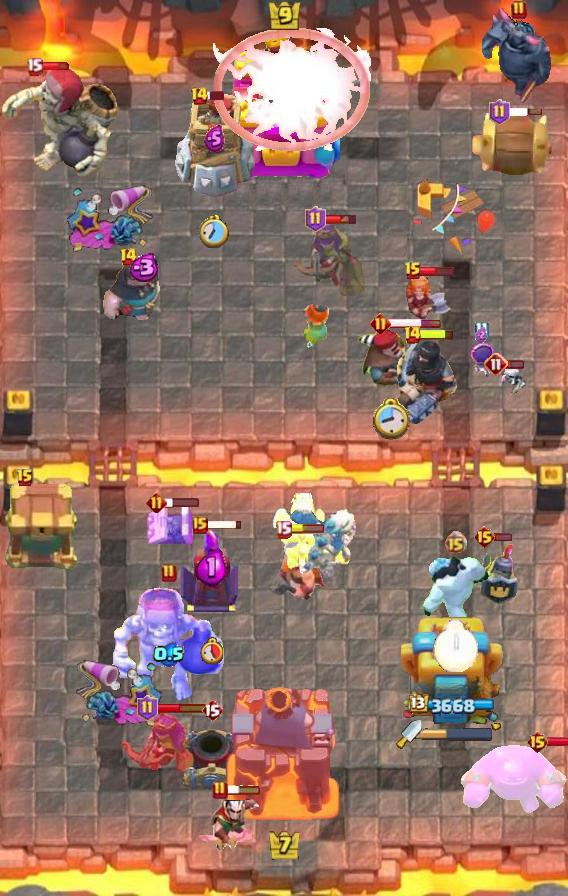bar: (401, 611, 505, 731)
barbarian-evolution: (213, 28, 371, 151)
barbarian-hut: (116, 707, 200, 785), (288, 221, 370, 297)
bomb: (0, 483, 78, 571)
clone: (458, 743, 568, 817)
electro-giant: (110, 585, 228, 703), (0, 67, 122, 179)
electro-spirit: (196, 550, 227, 587), (124, 253, 160, 282), (153, 642, 185, 667), (204, 125, 225, 152), (475, 327, 487, 343)
elixir: (434, 619, 478, 672), (372, 399, 410, 441), (199, 216, 229, 249), (200, 636, 223, 663)
emote: (156, 702, 209, 714), (388, 318, 442, 329), (419, 328, 455, 341), (164, 496, 200, 508), (226, 784, 262, 796), (323, 213, 358, 225), (421, 265, 456, 277), (205, 518, 242, 529), (507, 107, 543, 117), (289, 524, 325, 534), (40, 61, 72, 71), (548, 735, 568, 749), (507, 358, 526, 370), (206, 91, 226, 102), (494, 532, 514, 542)
goblin: (467, 341, 498, 381)
goblin-brawler: (146, 498, 198, 548)
golemite: (482, 4, 556, 106)
heal-spirit: (500, 365, 526, 394)
hog-rider: (402, 272, 452, 322), (296, 299, 334, 351)
ice-spirit-evolution-symbol: (179, 527, 243, 615)
inferno-dragon: (392, 339, 460, 431)
king-tower: (223, 680, 345, 826), (228, 29, 340, 181)
king-tower-bar: (422, 727, 494, 741)
mighty-miner: (268, 530, 326, 602)
mini-pekka: (285, 506, 359, 582), (271, 493, 329, 577)
musketeer: (181, 726, 243, 794)
phoenix-small: (356, 327, 426, 395)
princess: (476, 542, 520, 606)
rage: (419, 555, 491, 627)
royal-hog: (101, 258, 183, 324)
selected: (409, 694, 497, 716)
skeleton-king: (194, 790, 266, 850)
text: (484, 352, 508, 376), (305, 206, 327, 232), (473, 525, 496, 549), (526, 730, 549, 754), (490, 99, 511, 125), (137, 695, 158, 721), (445, 531, 468, 554), (201, 698, 223, 722), (369, 313, 390, 335), (146, 491, 167, 513), (118, 247, 138, 267), (402, 325, 422, 345), (191, 86, 210, 106), (404, 261, 422, 281), (16, 468, 34, 488), (25, 57, 43, 76), (275, 521, 293, 539), (511, 0, 527, 20), (161, 563, 177, 583), (212, 780, 228, 800), (192, 516, 208, 534), (475, 321, 490, 340)
the-log: (470, 111, 560, 179)
zappy: (173, 93, 255, 199)
